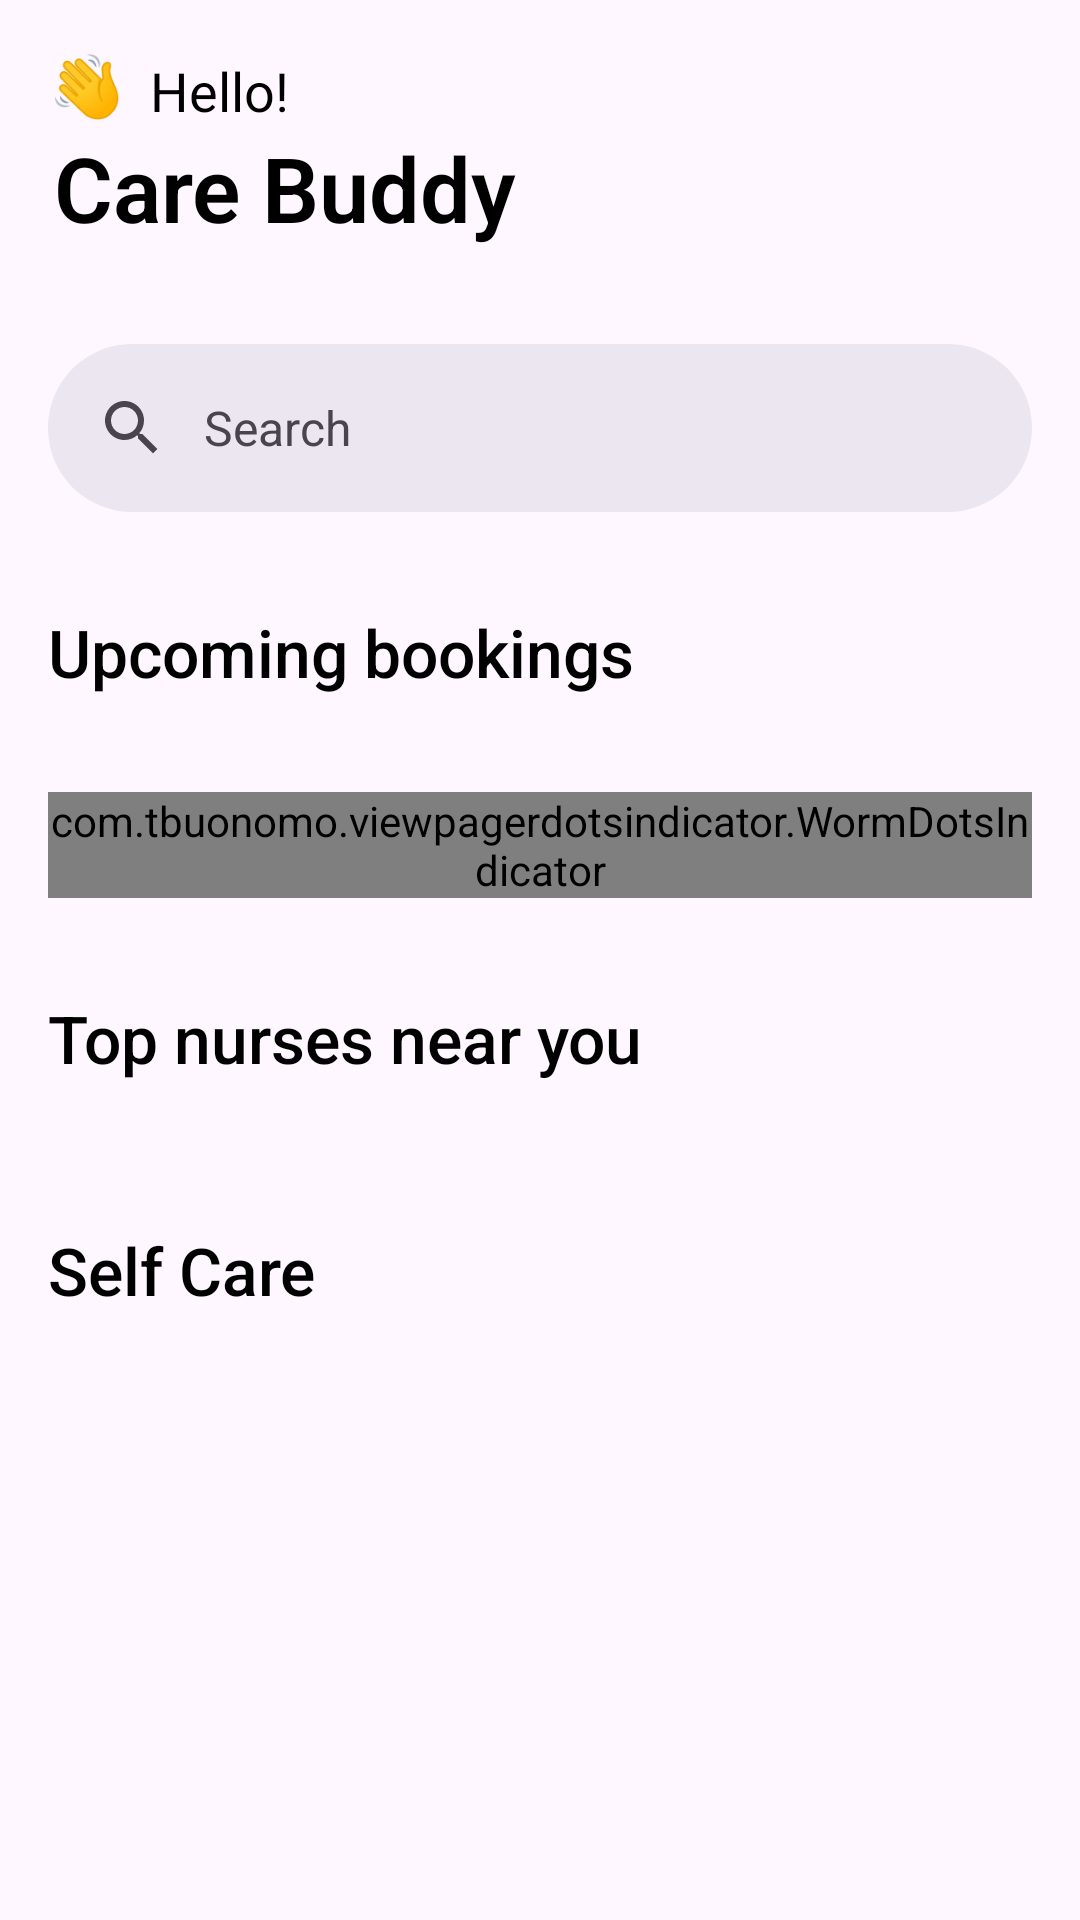

Screen size 1080*1920. Icon name, then its center in pixels as (x,y):
emoji waving hand: (87,87)
